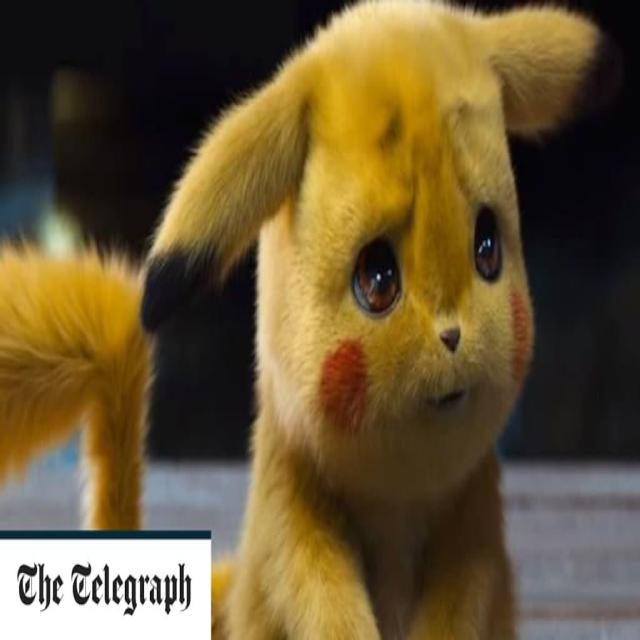pikachu: (1, 0, 625, 638)
